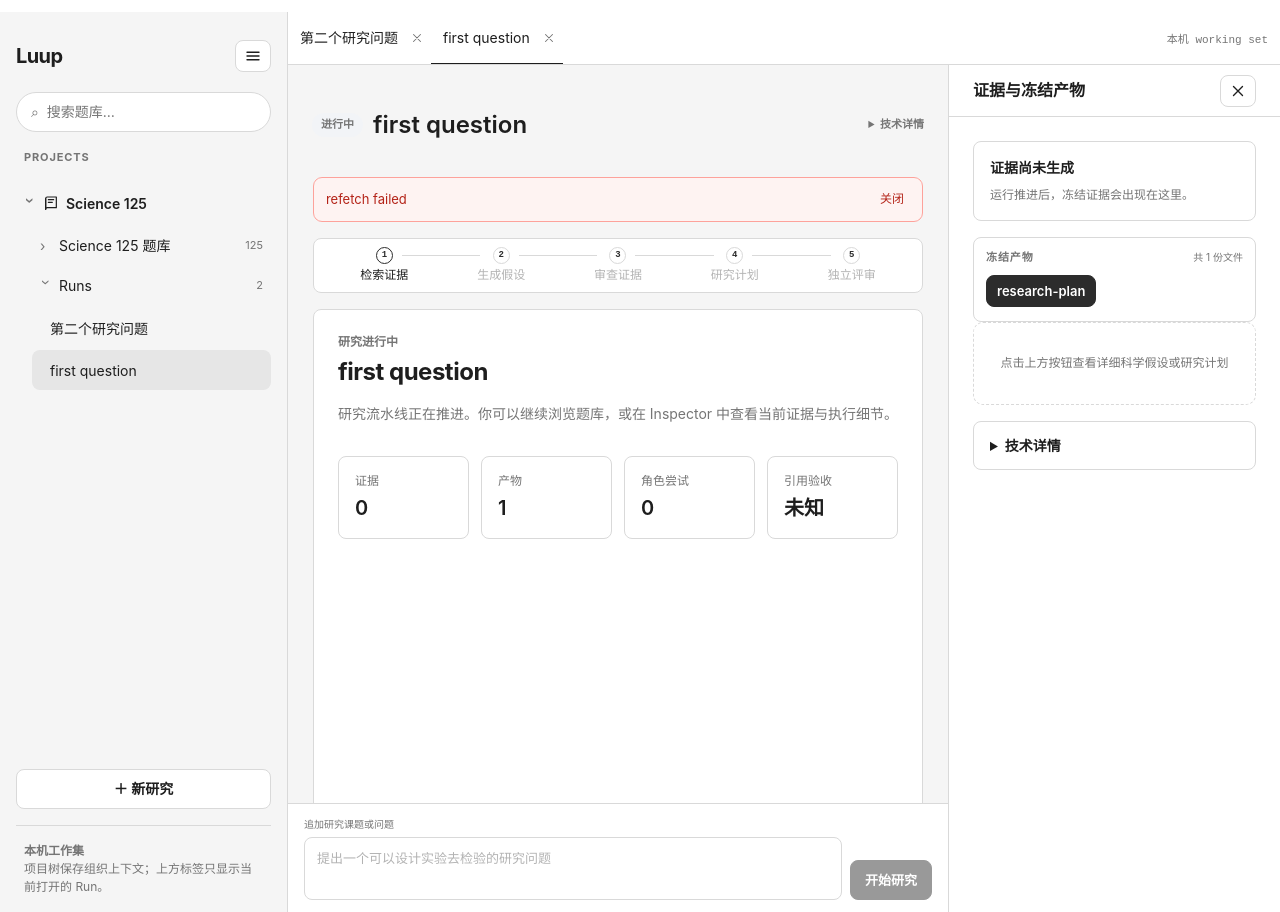
Home shell flows › refetch 失败保留 lastSnapshot 时可关闭错误横幅
Expected: the message with test id "error-banner" shows "refetch failed", [326,191,407,207]
Click the button "关闭". click: (892, 199)
box: [874,190,910,209]
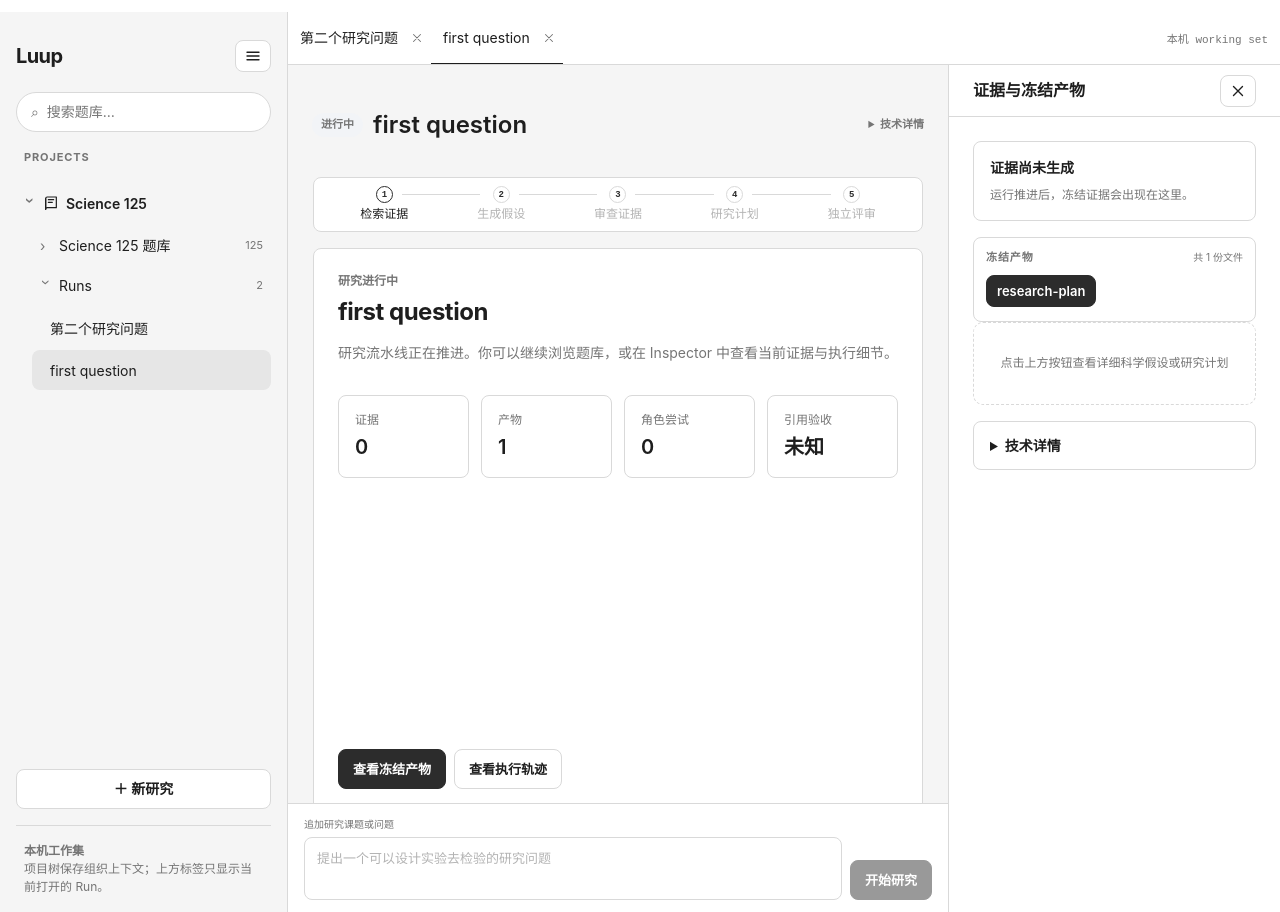
Expected: the header with test id "run-header" is shown, [312,110,924,139]
Expected: the message with test id "error-banner" is gone
